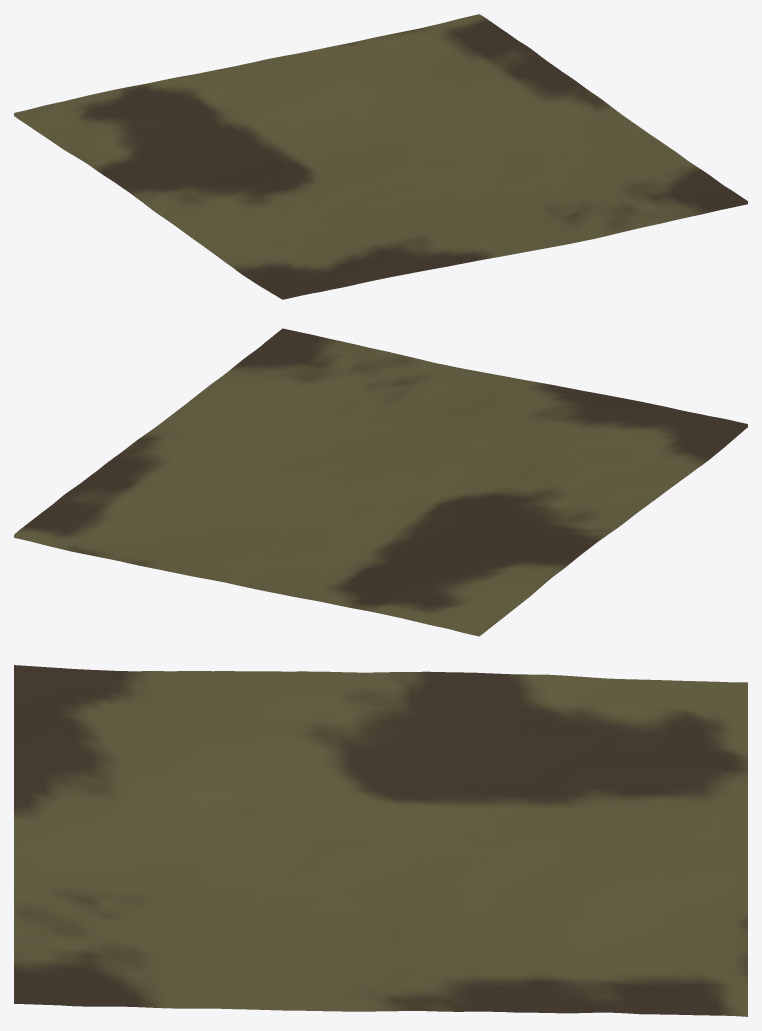
The model's file is land_m_01_09.glb.
3 renders of one model, top to bottom at view 1: azimuth 30°, elevation 25°; view 2: azimuth 150°, elevation 25°; view 3: azimuth 270°, elevation 25°, orthographic. The views are drawn at different scales.
Parts seen in each view (by area): view 1: land_m_01_09; view 2: land_m_01_09; view 3: land_m_01_09.
Part boxes in pixels (x1,y1,x2,y2): land_m_01_09: (14, 14, 747, 299); land_m_01_09: (14, 328, 747, 636); land_m_01_09: (14, 665, 747, 1016).
Size of the model in its own units: 960 by 60.25 by 960.
